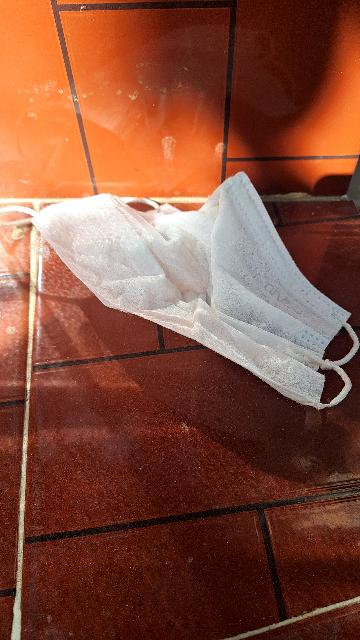mask: (22, 113, 360, 437)
